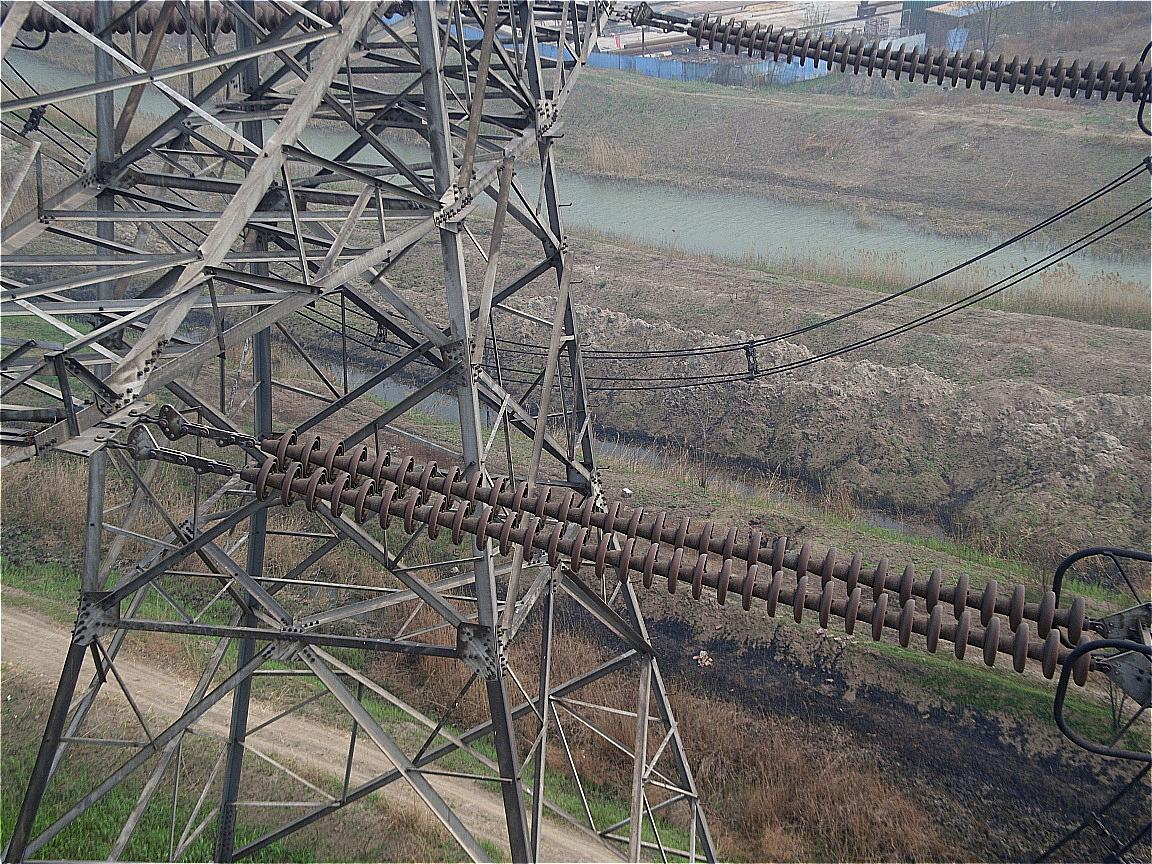insultor1: (253, 427, 1092, 687), (695, 9, 1144, 102)
